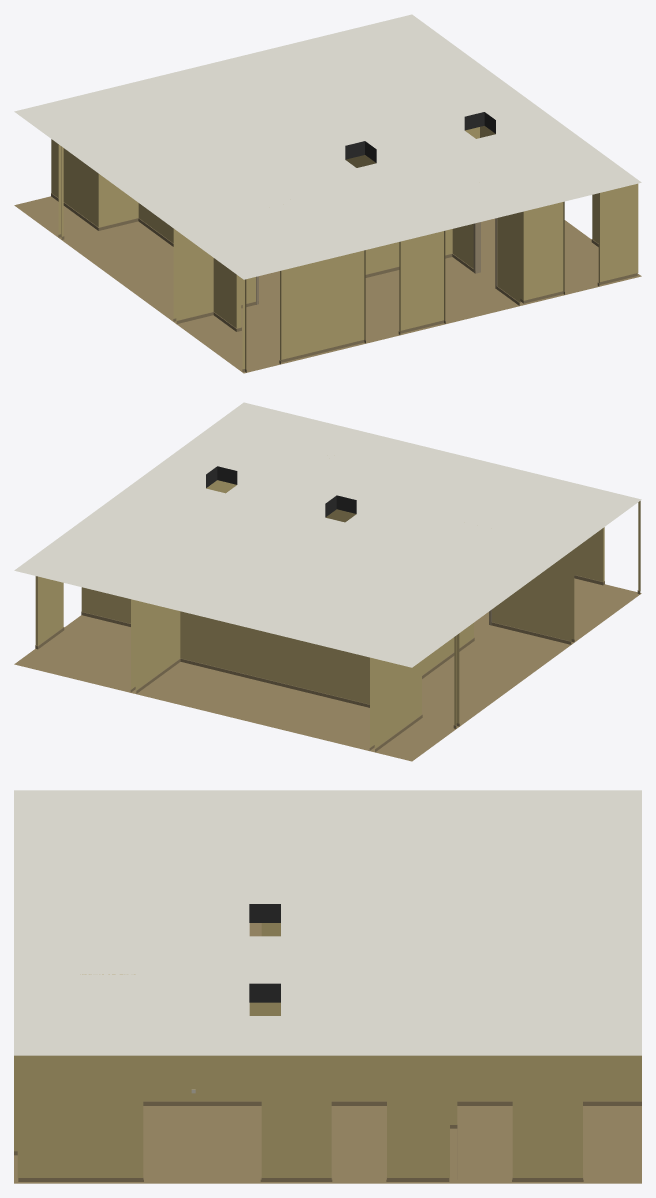
Rendered from chunk_1_1.glb.
3 views of the same model, one above another, from view 1: azimuth 30°, elevation 25°; view 2: azimuth 150°, elevation 25°; view 3: azimuth 270°, elevation 25° (orthographic). The views are drawn at different scales.
Visible parts, largest first — view 1: chunk_1_1; view 2: chunk_1_1; view 3: chunk_1_1.
Part boxes in pixels (box(x1,y1,x2,y2)): chunk_1_1: box(14, 14, 641, 373); chunk_1_1: box(14, 402, 641, 761); chunk_1_1: box(14, 790, 641, 1183).
Bounding box in the file's own units: 12.03 × 3.1 × 12.
